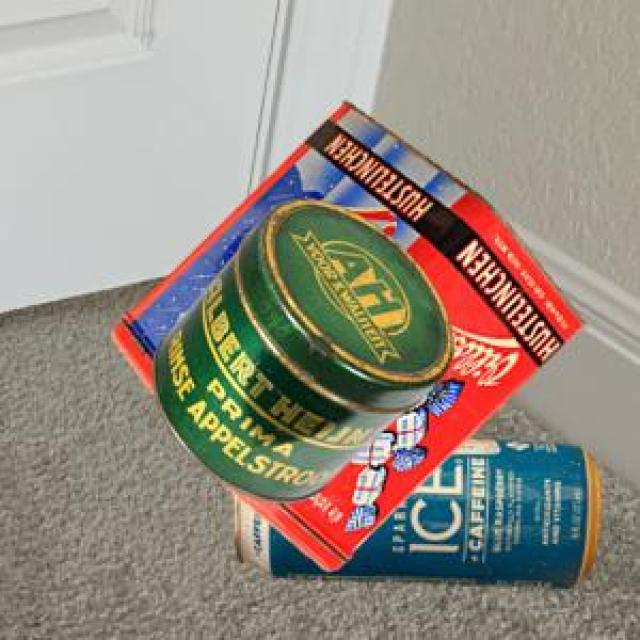logam: (110, 99, 581, 569), (150, 197, 449, 500), (231, 436, 598, 586)
